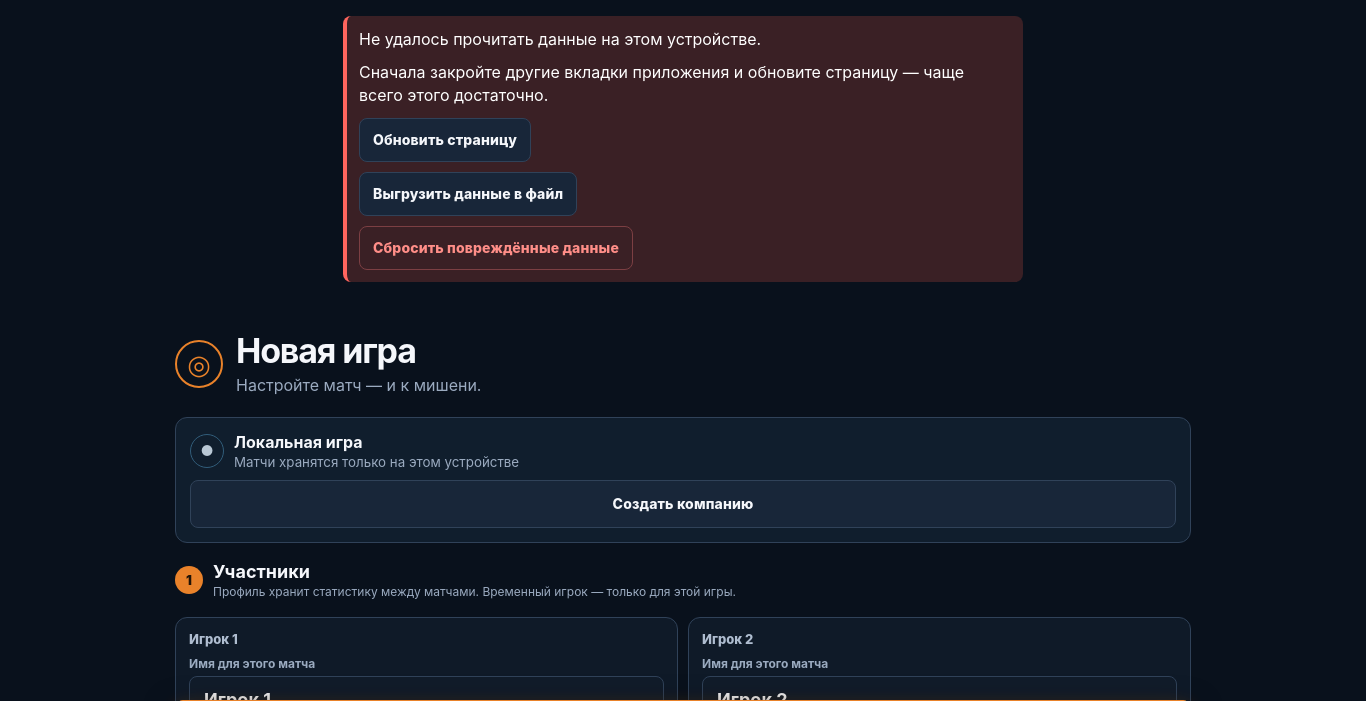
erasing local data (DATA-4) › requires a confirmation dialog and explains a blocked deletion
The image size is (1366, 701).
Expected: the message shows "Не удалось прочитать данные на этом устройстве.", x1=359 y1=29 x2=761 y2=49
Click the button "Сбросить повреждённые данные".
click(496, 248)  # box x1=359 y1=226 x2=633 y2=270
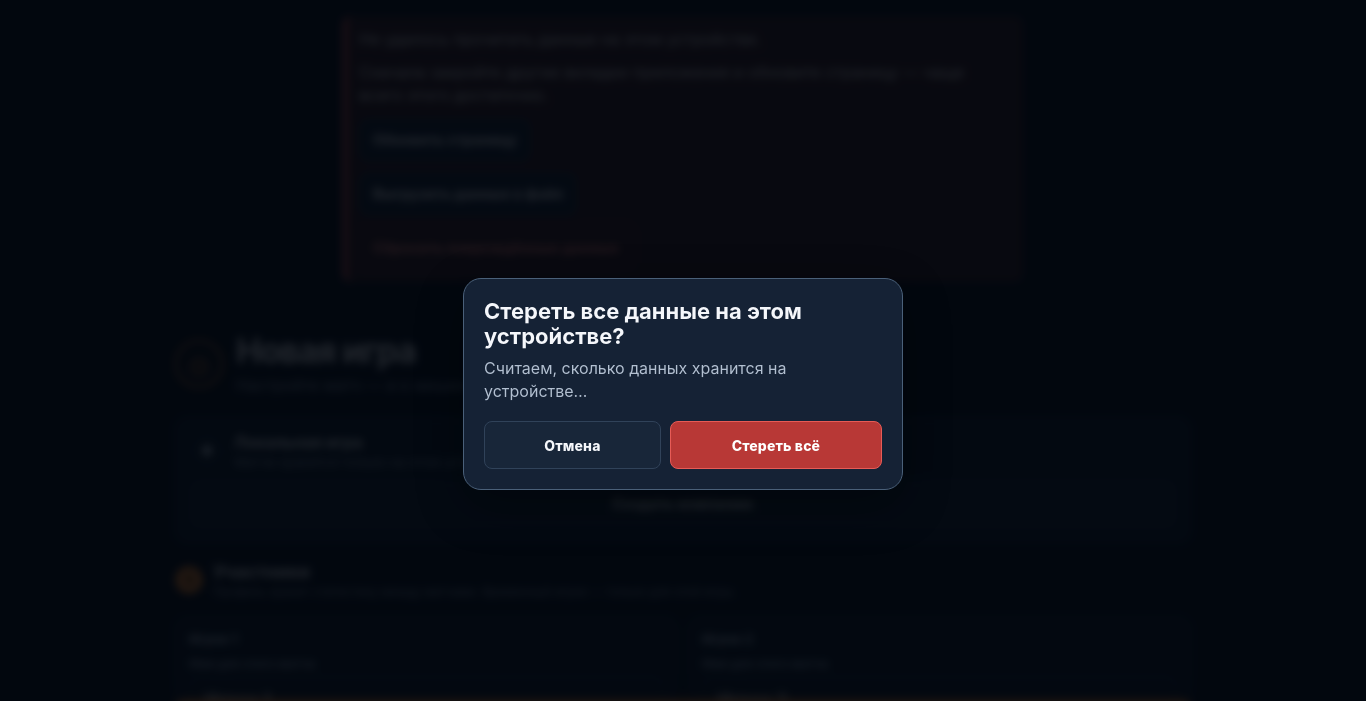
Click the button with class "secondary" showing "Отмена".
click(572, 446)  # box x1=484 y1=422 x2=661 y2=470
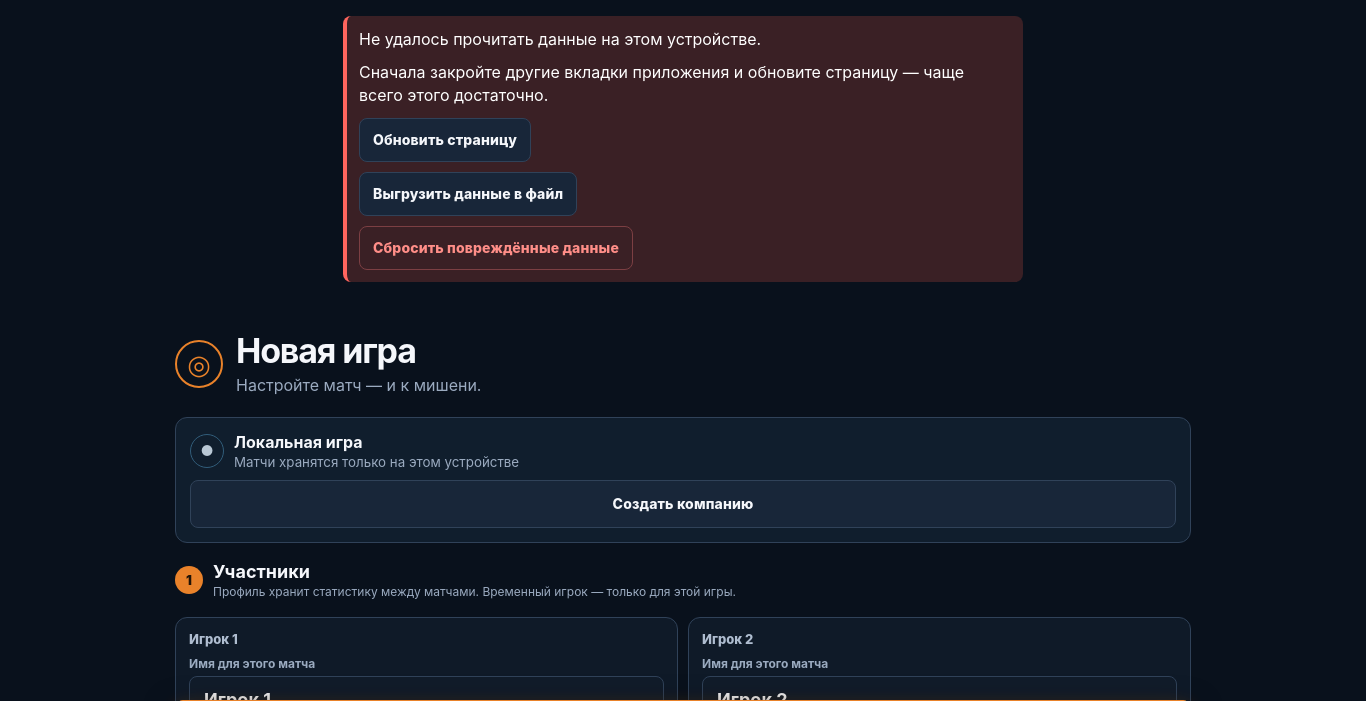
Click the button "Сбросить повреждённые данные".
click(496, 248)  # box x1=359 y1=226 x2=633 y2=270
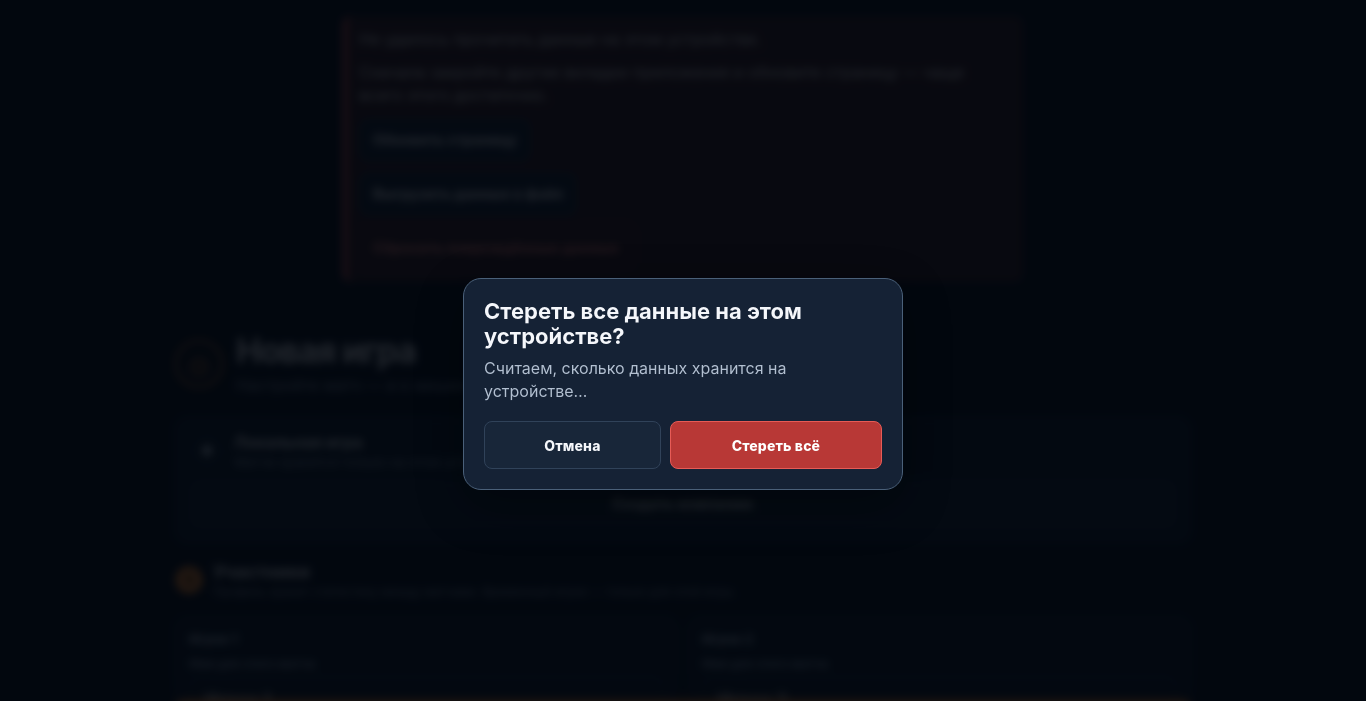
Click the button with class "danger-button".
click(776, 446)  # box x1=670 y1=422 x2=882 y2=470
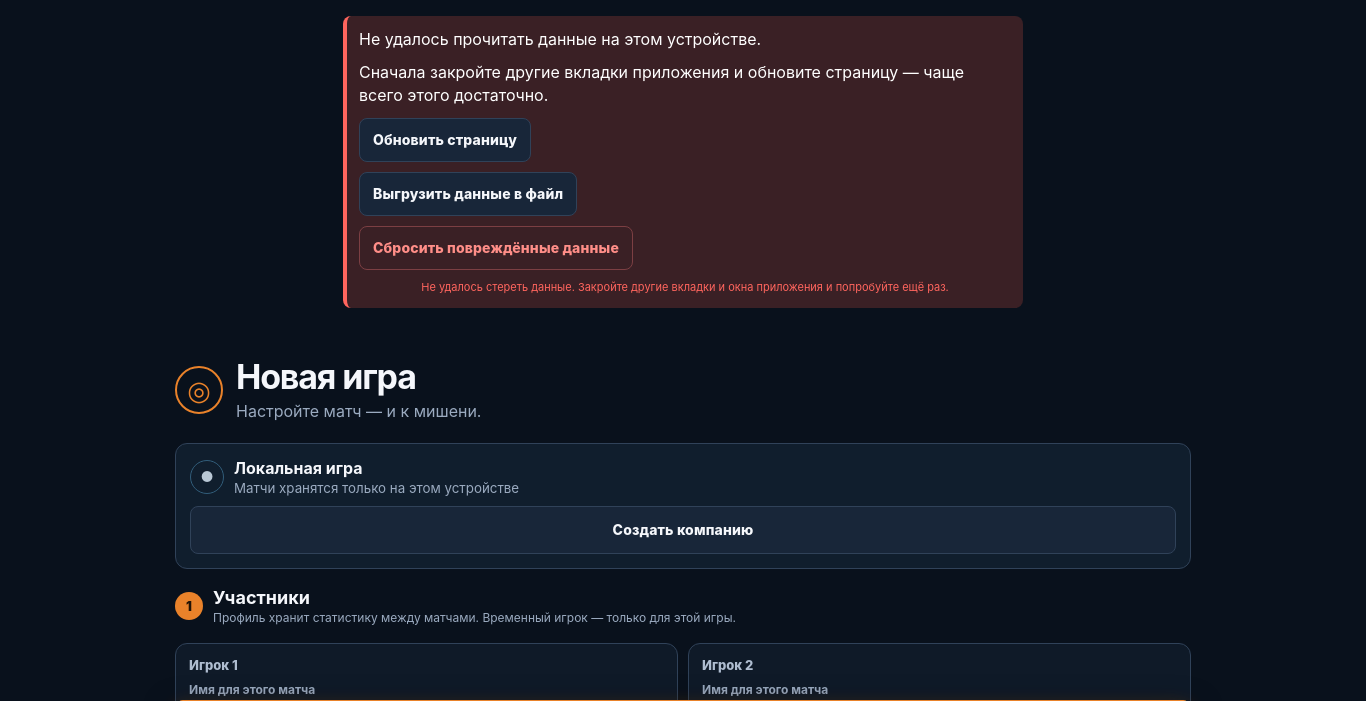
Expected: the text "Закройте другие вкладки" is shown, x1=421 y1=280 x2=949 y2=294
